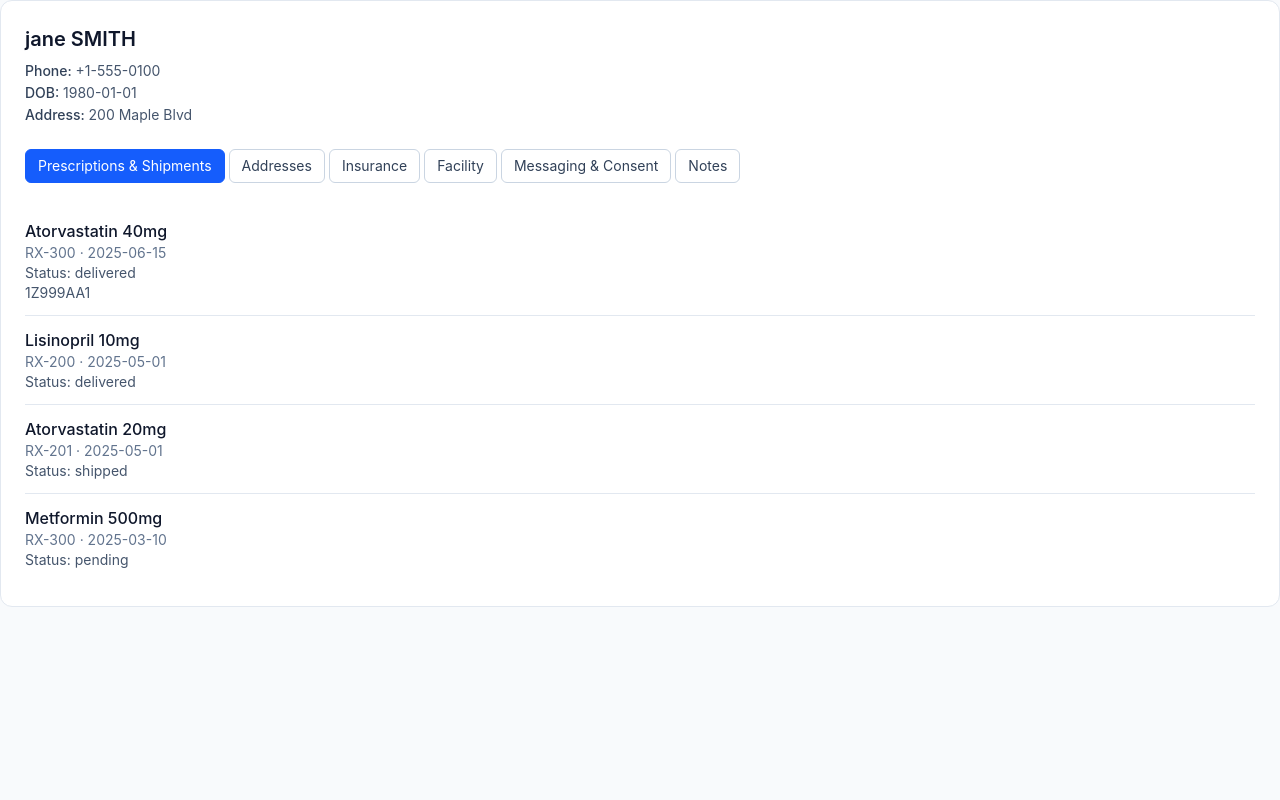
it: PatientProfile › shows the Insurance stub tab
The width and height of the screenshot is (1280, 800).
Click the button "Insurance".
click(375, 166)  # box [329,149,420,183]
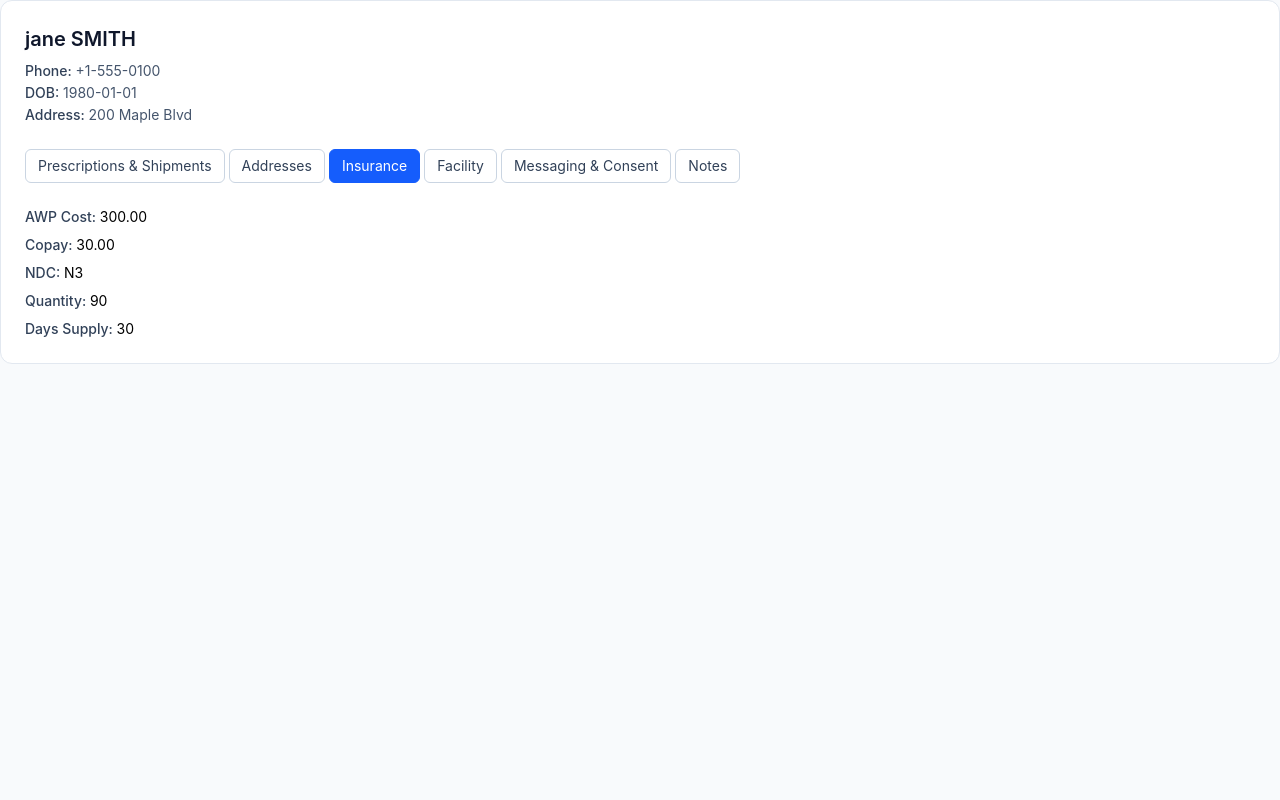
Check: the text "300.00" is shown, box [100,208,147,225]
Check: the text "30.00" is shown, box [76,236,115,253]
